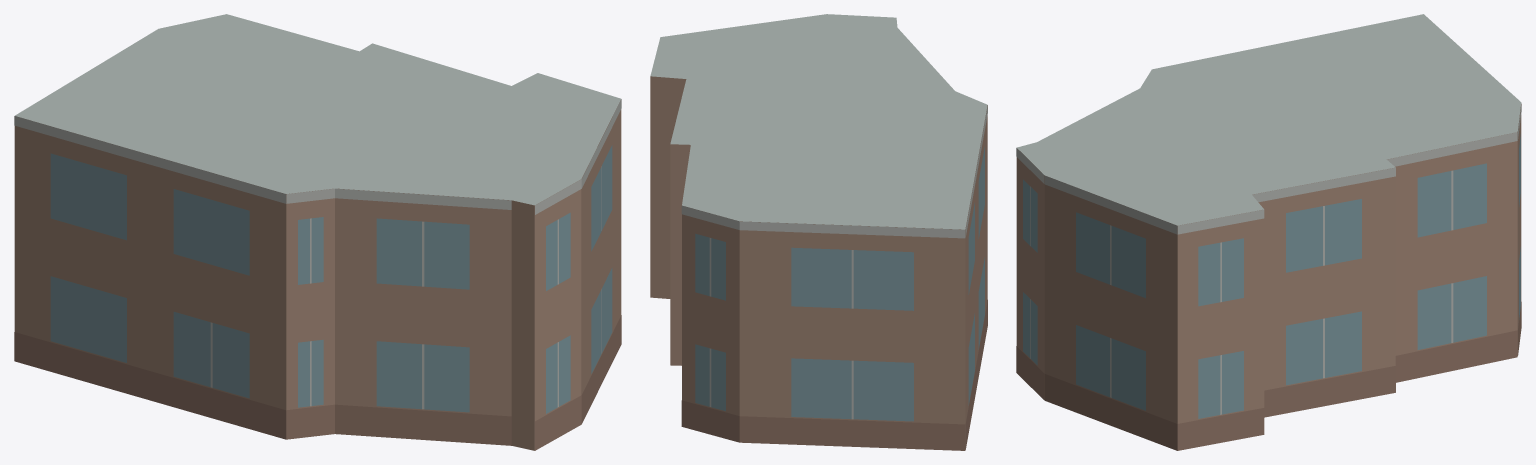
The model's file is survey-upis-33016654.glb.
3 renders of one model, left to right at view 1: azimuth 30°, elevation 25°; view 2: azimuth 150°, elevation 25°; view 3: azimuth 270°, elevation 25°, orthographic. The views are drawn at different scales.
Visible parts, largest first — view 1: survey-upis-33016654.tmp; view 2: survey-upis-33016654.tmp; view 3: survey-upis-33016654.tmp.
Boxes of the visible parts, bbox=[...] form: survey-upis-33016654.tmp: bbox=[14, 14, 621, 450]; survey-upis-33016654.tmp: bbox=[650, 14, 987, 450]; survey-upis-33016654.tmp: bbox=[1016, 14, 1521, 450].
Bounding box in the file's own units: 12.3 × 6.1 × 12.4.
